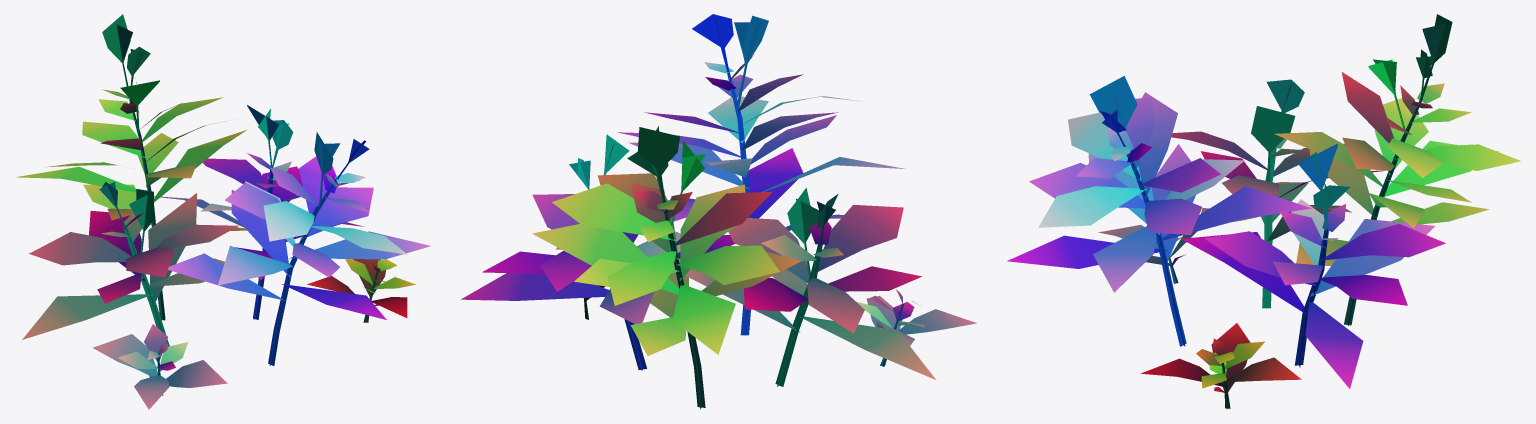
File: xefmcgrqx_VarG_LOD1.fbx
3 renders of one model, left to right at view 1: azimuth 30°, elevation 25°; view 2: azimuth 150°, elevation 25°; view 3: azimuth 270°, elevation 25°, orthographic. The views are drawn at different scales.
Visible parts, largest first — view 1: _xdbh_VarG_LOD4; view 2: _xdbh_VarG_LOD4; view 3: _xdbh_VarG_LOD4.
Boxes of the visible parts, x1,y1,x2,y2 form: _xdbh_VarG_LOD4: (16,14,430,409); _xdbh_VarG_LOD4: (461,14,976,409); _xdbh_VarG_LOD4: (1007,14,1521,409).
Bounding box in the file's own units: 74.19 × 51.68 × 78.14.
